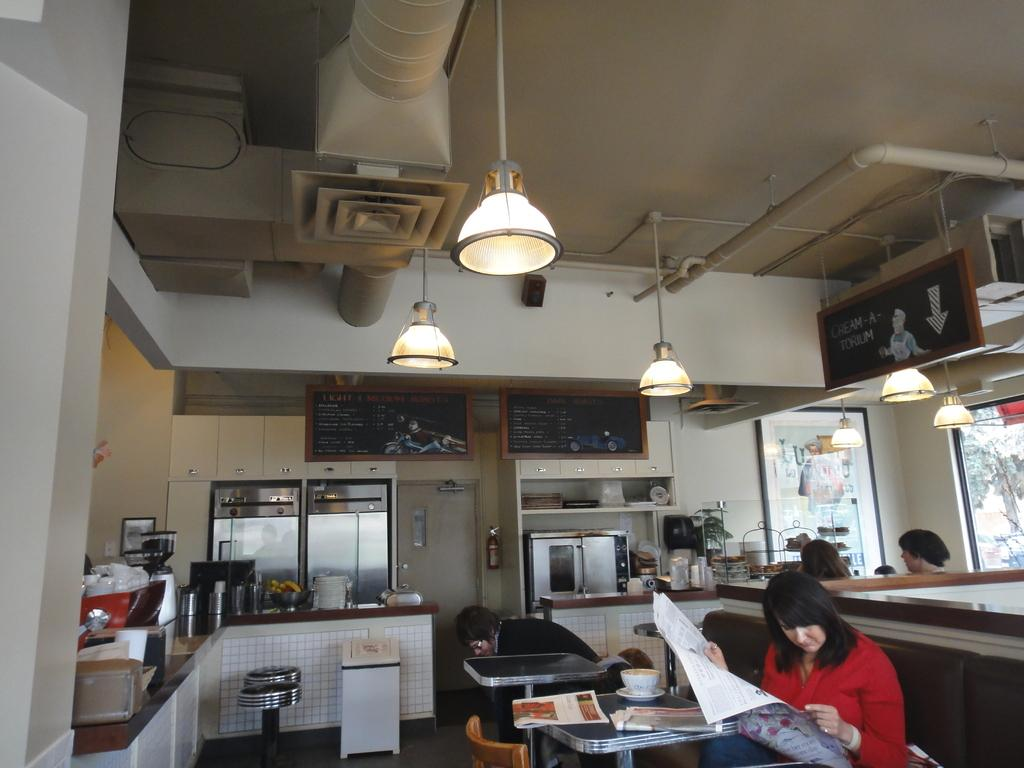Chair: (465, 712, 535, 767)
